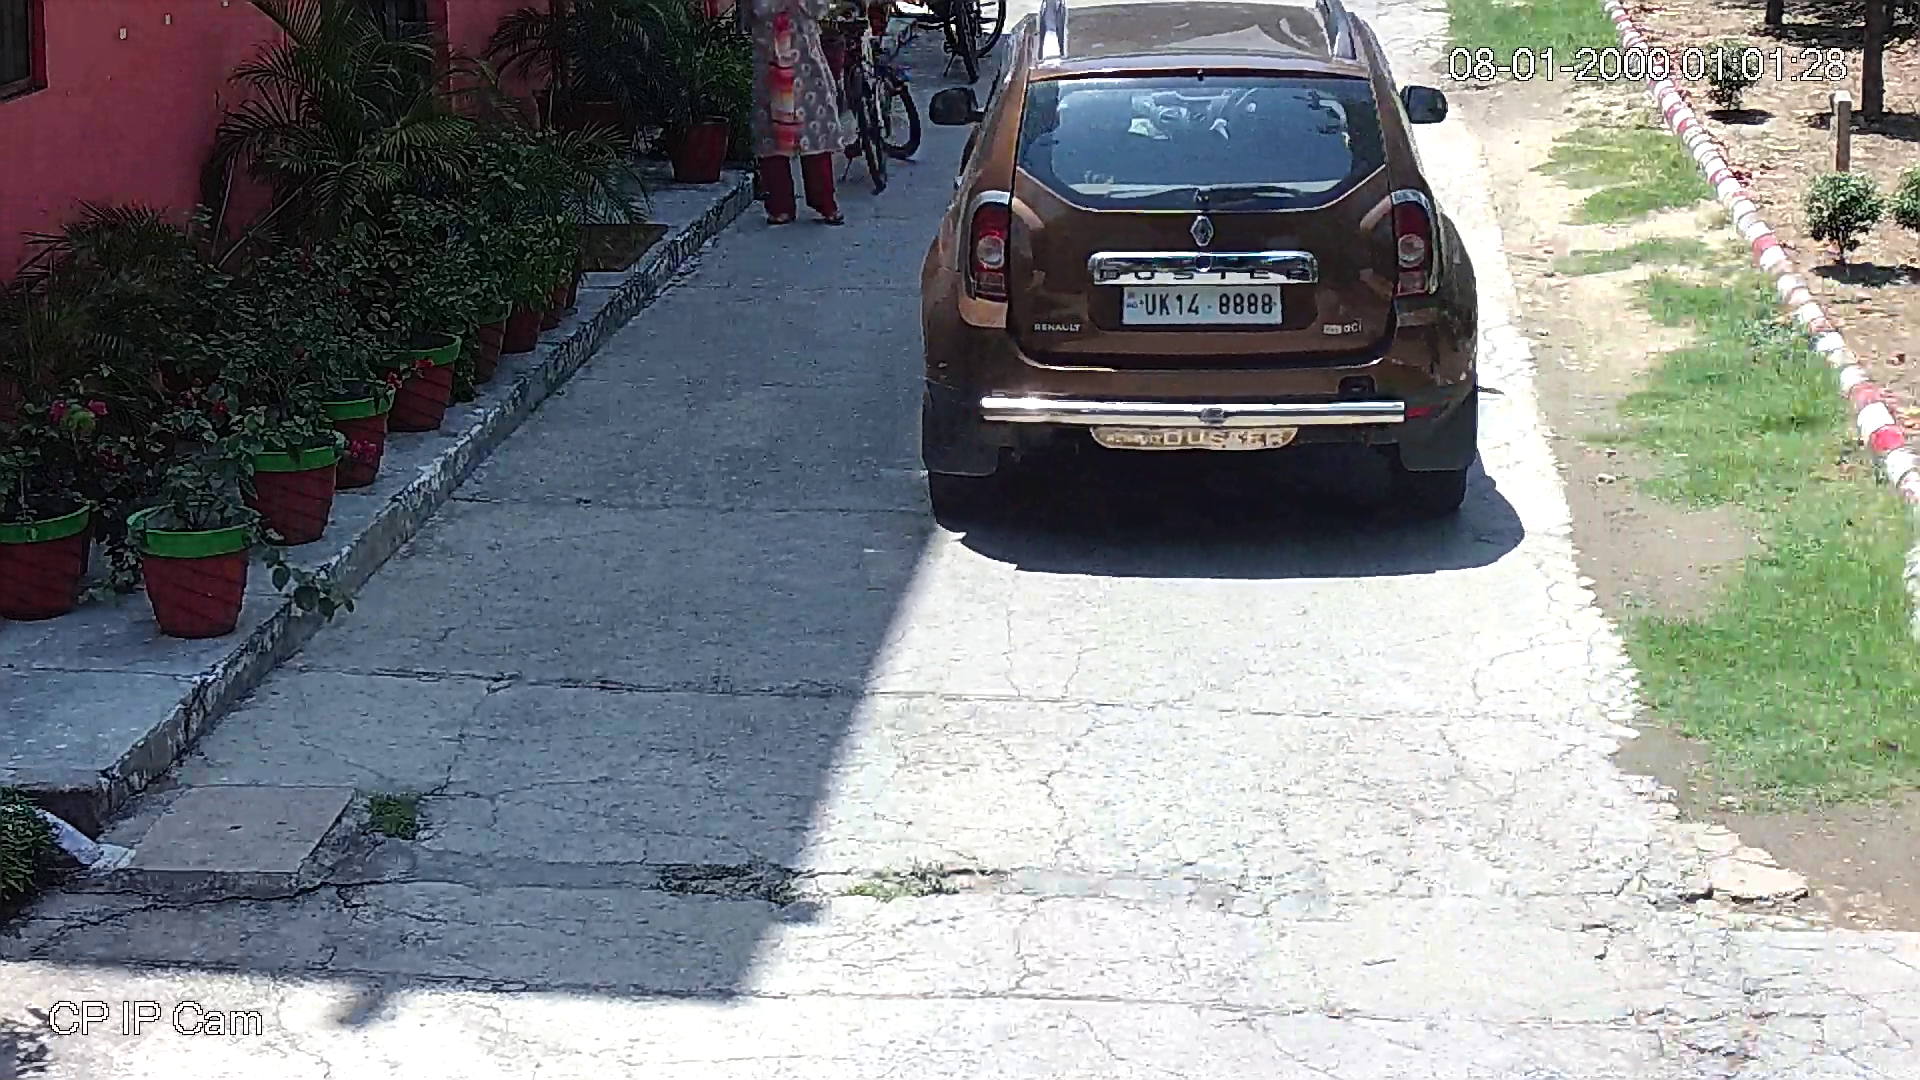plate: (1113, 284, 1292, 327)
